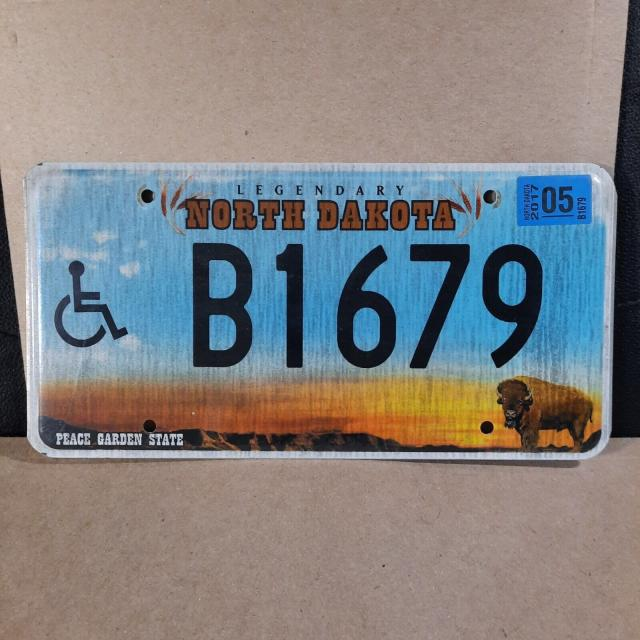car-handicap-placard: (49, 258, 139, 351)
